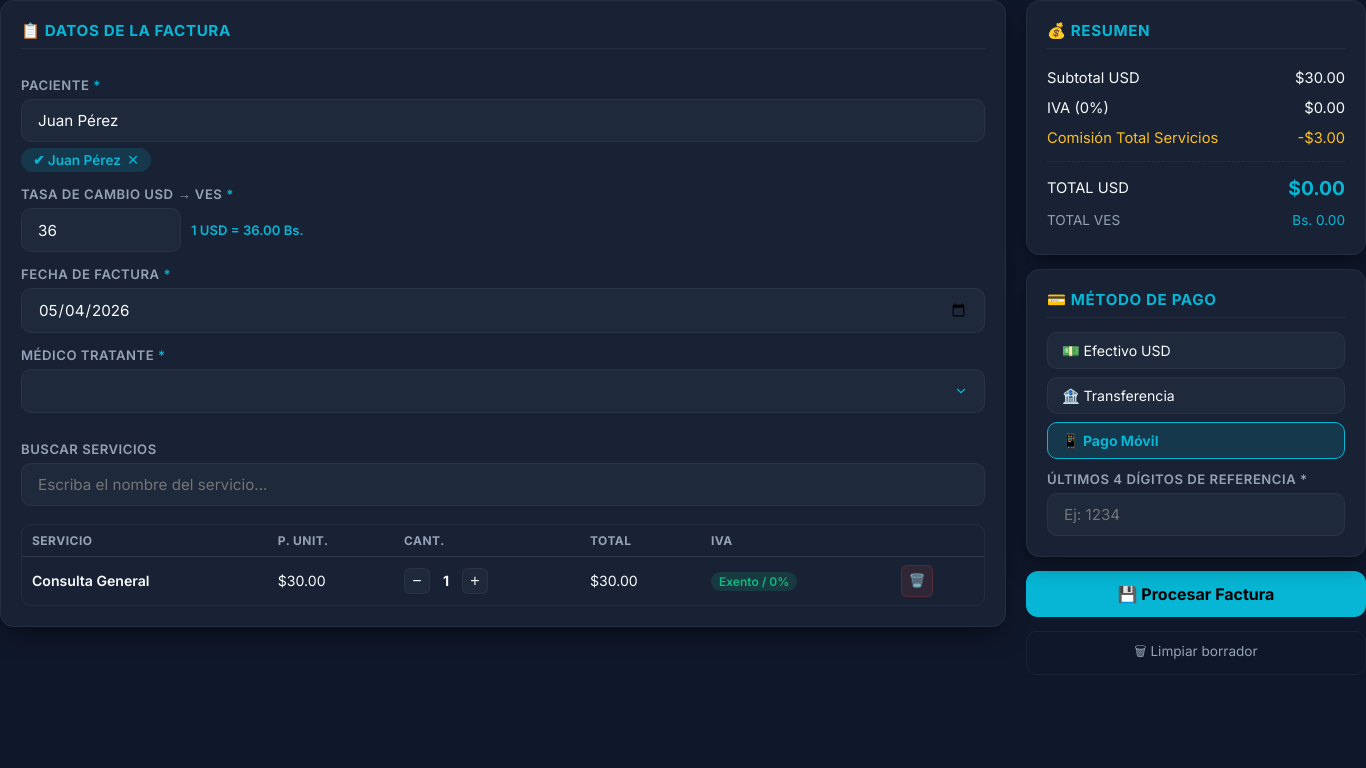
Test case: InvoiceForm › debe validar que los dígitos sean 4 en pagos electrónicos
Expected: the text "Consulta General" is shown, 22,556 -> 268,605
Click the button "📱 Pago Móvil" at (1110, 440), box 1047,422 -> 1345,459
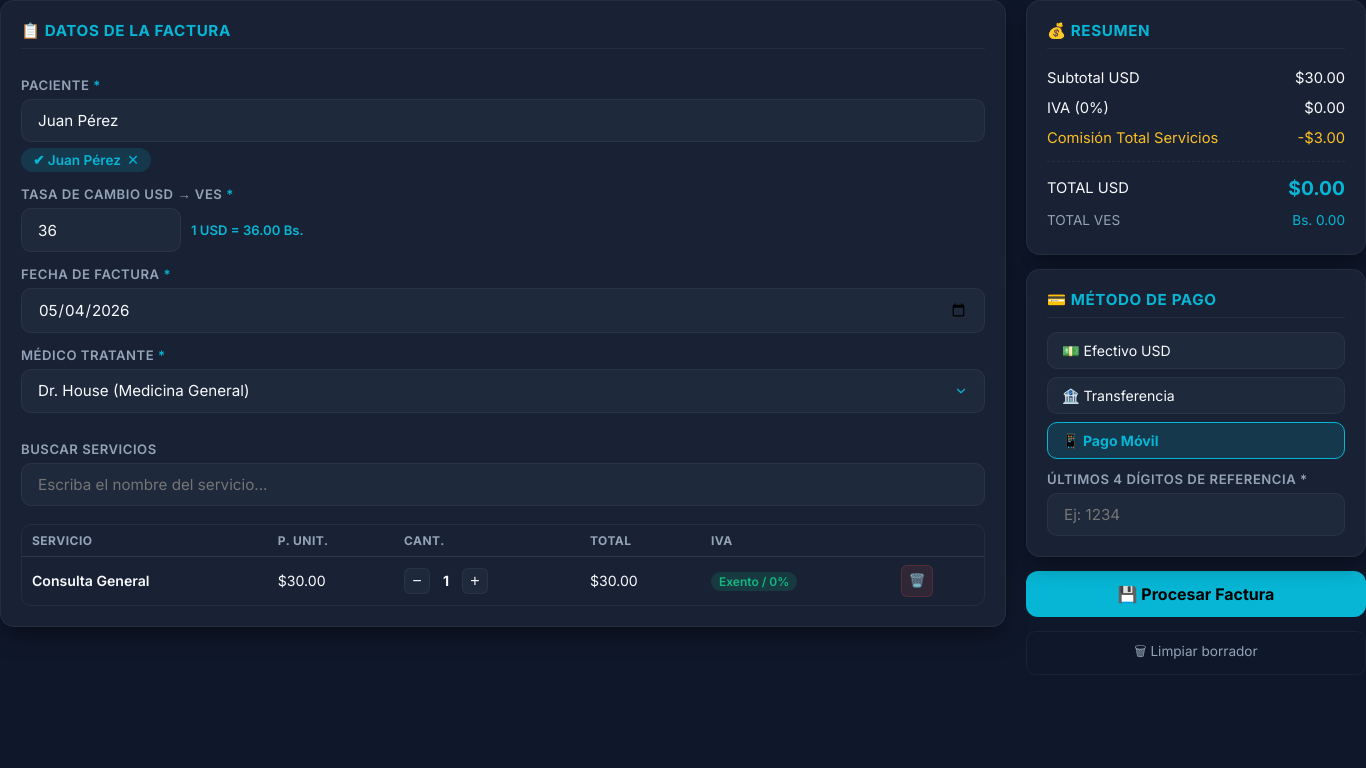
Type "12" into the field with placeholder "Ej: 1234" at (1196, 515), box 1047,493 -> 1345,536
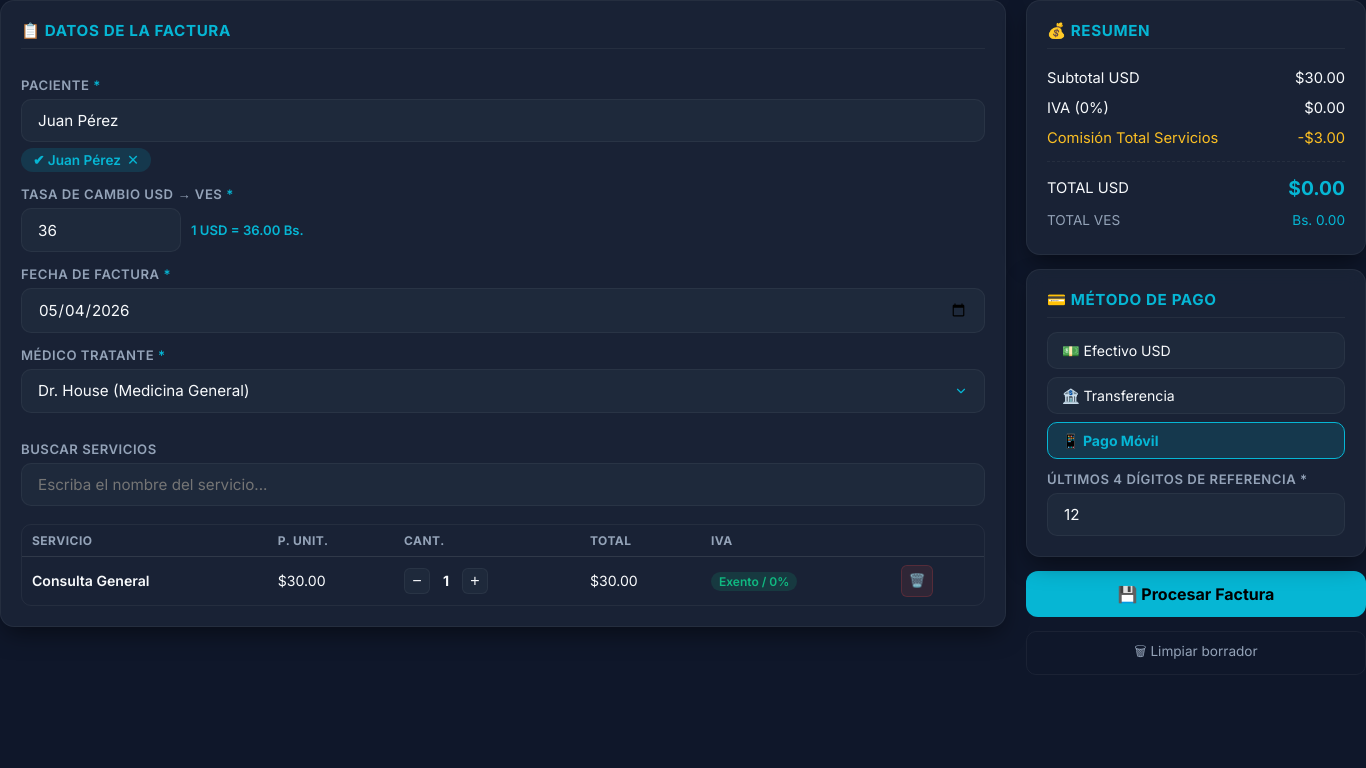
# Intentar procesar: debe mostrar error de validación por dígitos insuficientes
Click the button "💾 Procesar Factura" at (1196, 594), box 1026,571 -> 1365,617
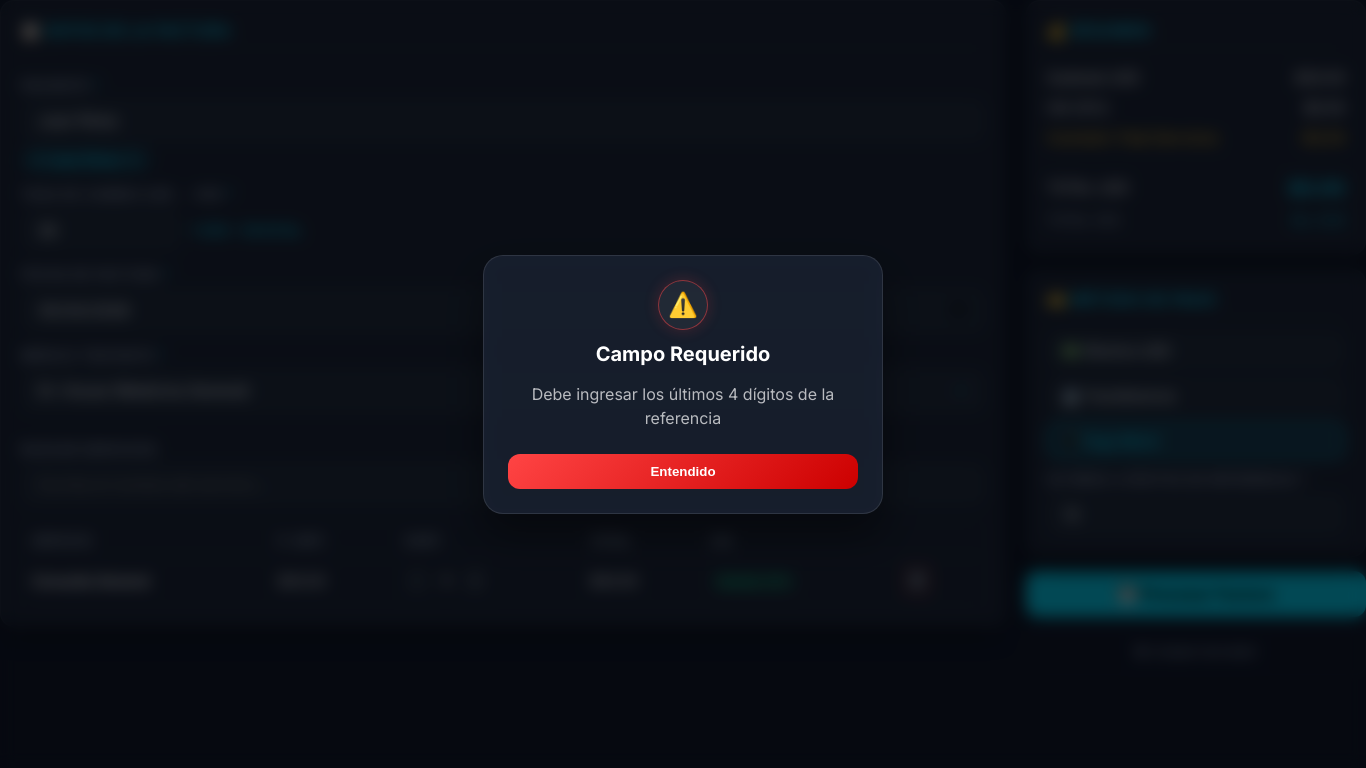
Expected: the text "Debe ingresar los últimos 4 dígitos de la referencia" is shown, 508,382 -> 858,430
